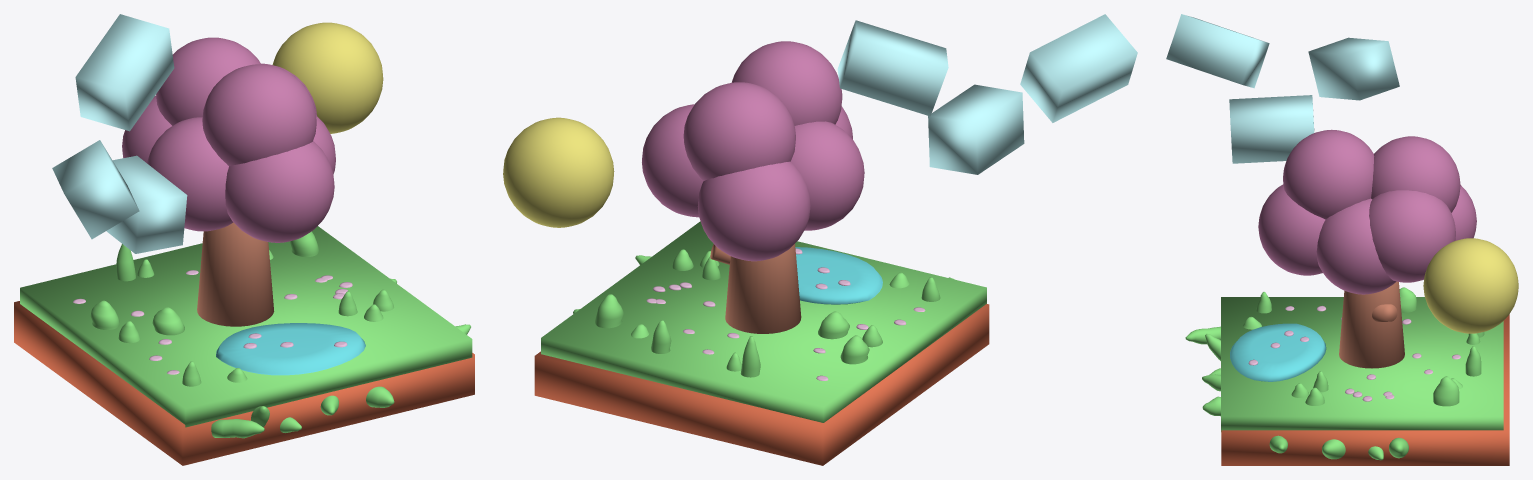
The picture shows the model from 3 angles, left to right: view 1: azimuth 30°, elevation 25°; view 2: azimuth 150°, elevation 25°; view 3: azimuth 270°, elevation 25°; orthographic projection. The views are drawn at different scales.
Parts seen in each view (by area): view 1: Cube.001, Cube, Sphere.005, Sphere.004, Sun, Cloud2, Cylinder, Circle.010, Sphere.006, Cloud1, Cloud3, Sphere (+8 smaller); view 2: Cube.001, Cube, Sun, Sphere.001, Sphere, Cloud3, Cloud2, Cloud1, Sphere.005, Sphere.006, Cylinder, Sphere.003 (+3 smaller); view 3: Cube.001, Cube, Sun, Sphere.005, Sphere.003, Cloud1, Sphere.002, Cloud3, Cloud2, Sphere, Cylinder, Circle.010 (+8 smaller).
Boxes of the visible parts, x1,y1,x2,y2 form: Cube.001: (20, 226, 472, 427); Cube: (14, 301, 474, 465); Sphere.005: (202, 64, 316, 166); Sphere.004: (225, 141, 334, 242); Sun: (272, 22, 383, 133); Cloud2: (75, 14, 174, 131); Cylinder: (197, 222, 274, 326); Circle.010: (216, 323, 365, 375); Sphere.006: (147, 117, 233, 231); Cloud1: (106, 155, 187, 253); Cloud3: (52, 140, 139, 239); Sphere: (156, 37, 260, 125); Cube.001: (541, 221, 986, 422); Cube: (534, 304, 989, 465); Sun: (503, 117, 614, 227); Sphere.001: (697, 161, 810, 261); Sphere: (683, 82, 795, 180); Cloud3: (1020, 14, 1137, 122); Cloud2: (837, 20, 948, 116); Cloud1: (928, 84, 1024, 174); Sphere.005: (731, 41, 842, 125); Sphere.006: (791, 121, 864, 230); Cylinder: (725, 244, 801, 333); Sphere.003: (642, 104, 703, 217); Cube.001: (1221, 297, 1503, 431); Cube: (1221, 314, 1509, 465); Sun: (1423, 238, 1518, 333); Sphere.005: (1283, 129, 1374, 219); Sphere.003: (1369, 190, 1455, 282); Cloud1: (1229, 95, 1314, 163); Sphere.002: (1316, 198, 1396, 294); Cloud3: (1166, 14, 1269, 88); Cloud2: (1308, 37, 1399, 100); Sphere: (1371, 136, 1460, 212); Cylinder: (1339, 281, 1404, 368); Circle.010: (1230, 323, 1326, 381).
Size of what is drawn, in the model's own units: 3.24 by 2.43 by 2.45.
